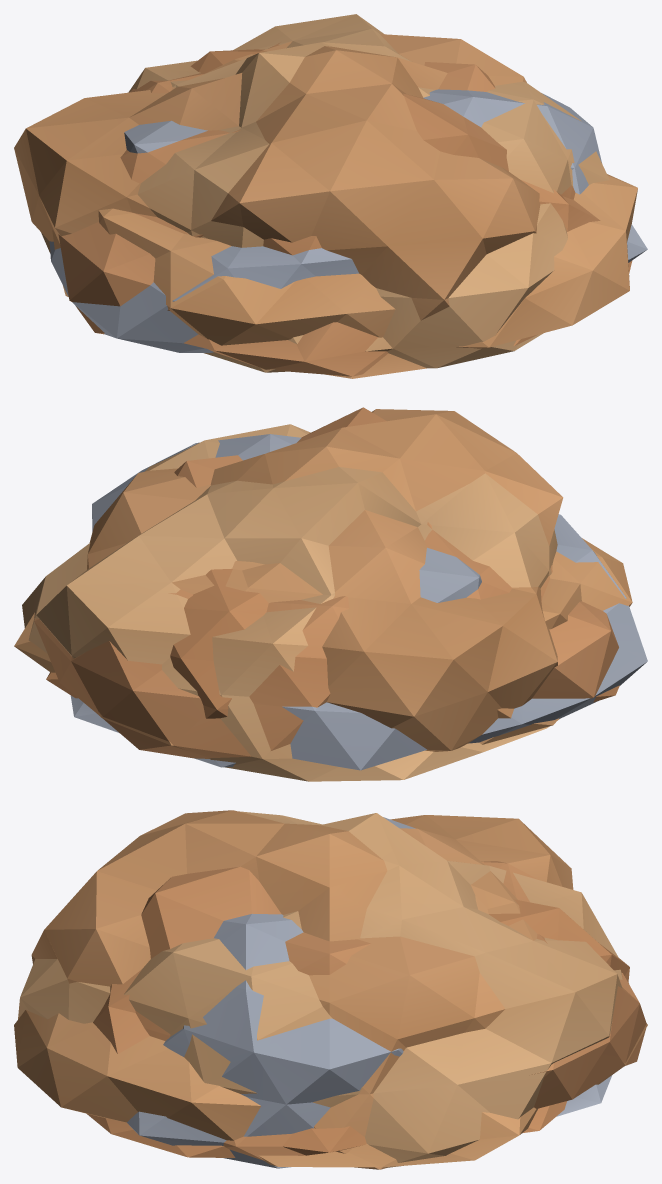
The model's file is coast_rocks.glb.
3 renders of one model, top to bottom at view 1: azimuth 30°, elevation 25°; view 2: azimuth 150°, elevation 25°; view 3: azimuth 270°, elevation 25°, orthographic. The views are drawn at different scales.
Parts seen in each view (by area): view 1: rock_5, rock_2, rock_0, rock_1, rock_4, rock_3; view 2: rock_5, rock_2, rock_1, rock_4, rock_3, rock_0; view 3: rock_2, rock_5, rock_4, rock_0, rock_1, rock_3.
Part boxes in pixels (x1,y1,x2,y2): rock_5: (14, 34, 540, 378); rock_2: (41, 14, 609, 372); rock_0: (52, 174, 637, 348); rock_1: (58, 42, 600, 376); rock_4: (49, 89, 647, 352); rock_3: (76, 49, 632, 346); rock_5: (87, 409, 563, 751); rock_2: (22, 424, 559, 781); rock_1: (34, 407, 618, 758); rock_4: (70, 434, 647, 770); rock_3: (46, 568, 619, 718); rock_0: (14, 538, 632, 744); rock_2: (18, 811, 628, 1167); rock_5: (31, 810, 647, 1169); rock_4: (127, 817, 612, 1168); rock_0: (14, 895, 537, 1167); rock_1: (93, 861, 646, 1160); rock_3: (87, 899, 629, 1157).
Bounding box in the file's own units: 2.18 × 0.8256 × 2.21.
